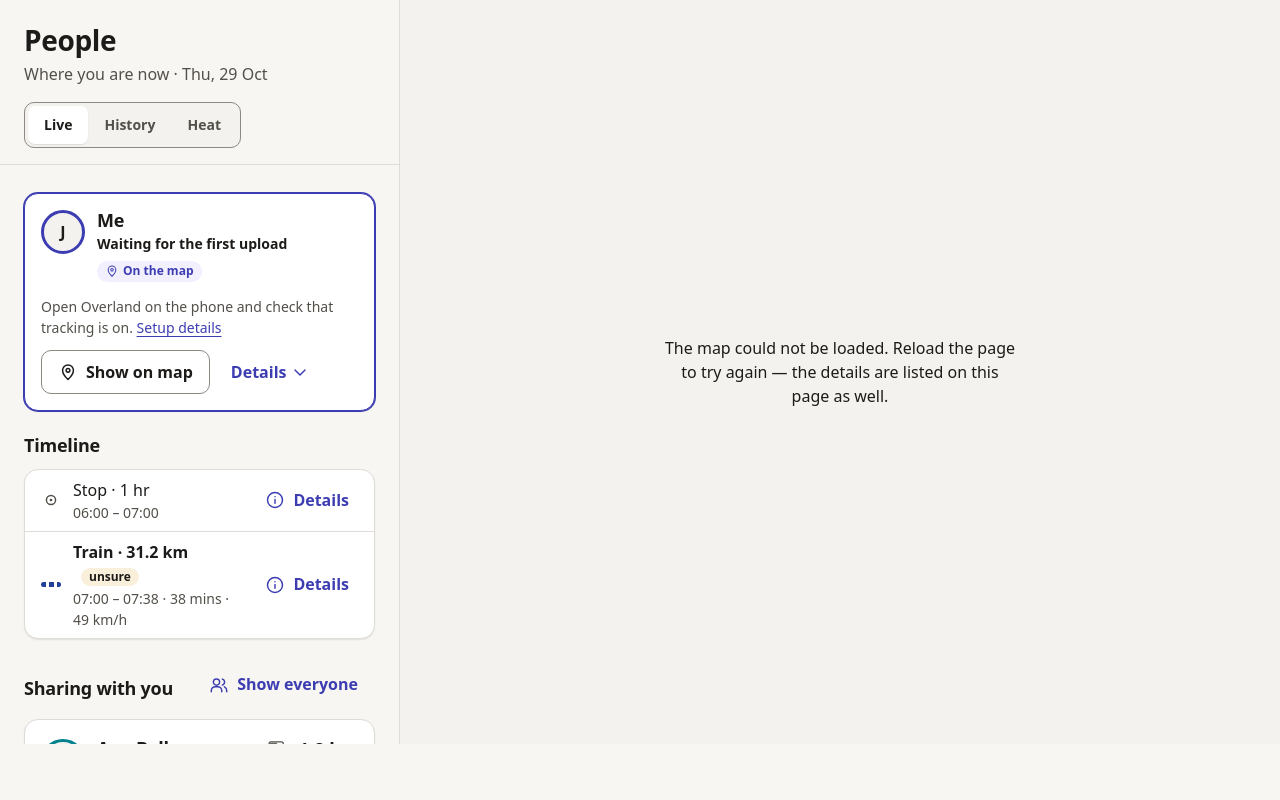
Test: the People page's list › points to a device's setup while none has uploaded yet
(page scrolled)
Expected: the text "Waiting for the first upload" is shown, top-left (97, 234), bottom-right (287, 253)
Click the button "Details" below "Setup details" at (271, 372), box top-left (218, 350), bottom-right (324, 394)
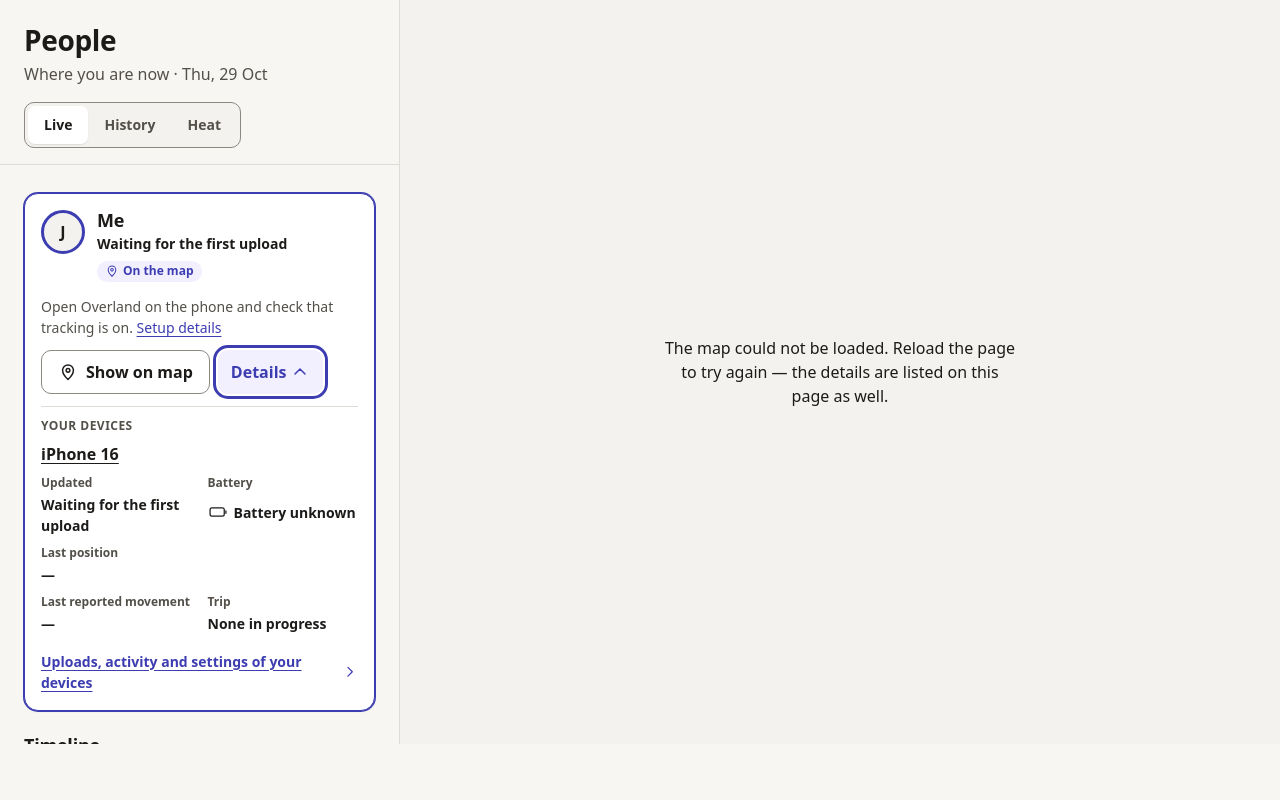
Expected: the text "Waiting for the first upload" below "Updated" is shown, top-left (41, 495), bottom-right (179, 535)
